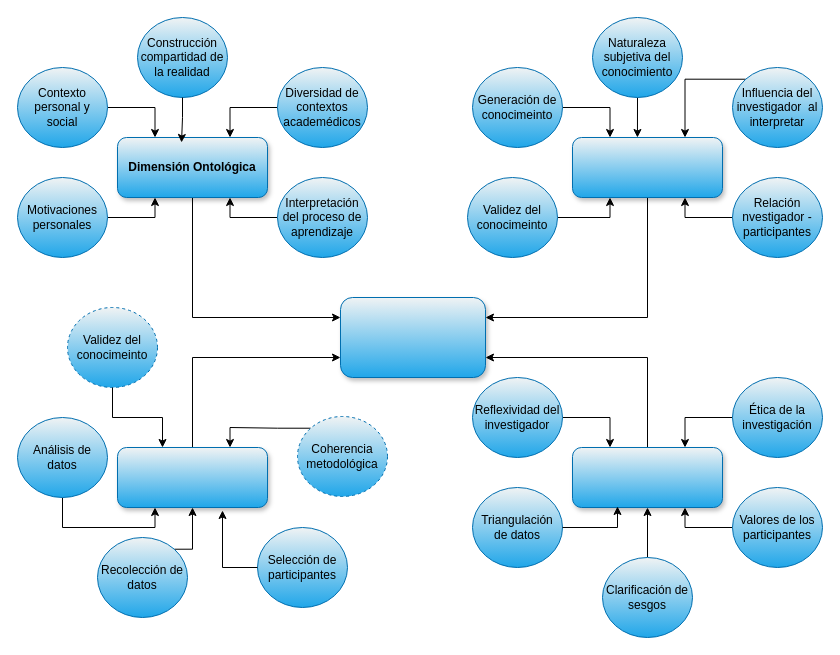
Some shapes in this 840 by 655 pixel diagram are drawn without their labels. Here are the shapes that lost their labels. From the top down, the centre of each, then its label:
(648,168): Dimensión Epistemológica
(414,338): Dimensiones del paradigma
(193,478): Dimensión Metodológica
(648,478): DimensiónAxiológica
